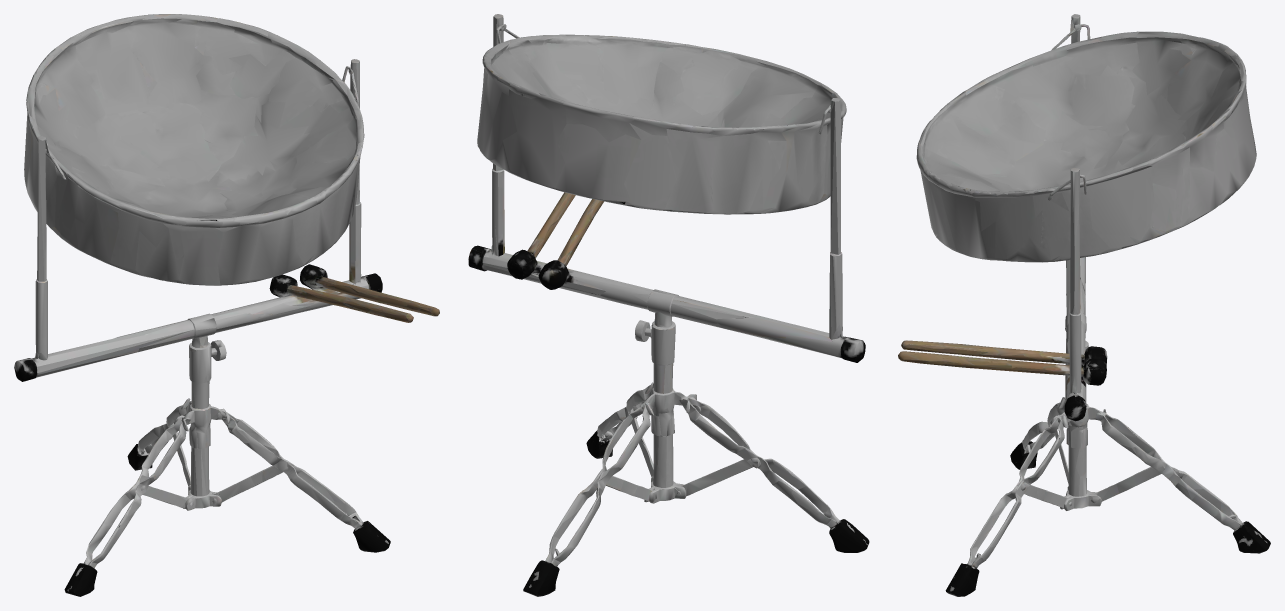
The model's file is PAN_FALDA_32_NOTAS_12-optimized.glb.
3 views of the same model, side by side, from view 1: azimuth 30°, elevation 25°; view 2: azimuth 150°, elevation 25°; view 3: azimuth 270°, elevation 25° (orthographic). The views are drawn at different scales.
Parts seen in each view (by area): view 1: output_unwrapped; view 2: output_unwrapped; view 3: output_unwrapped.
Boxes of the visible parts, x1,y1,x2,y2 form: output_unwrapped: (14, 14, 439, 596); output_unwrapped: (468, 14, 869, 596); output_unwrapped: (898, 14, 1270, 596).
Bounding box in the file's own units: 1.58 × 1.9 × 1.39.
Materials: 1 (1 with a texture image).
